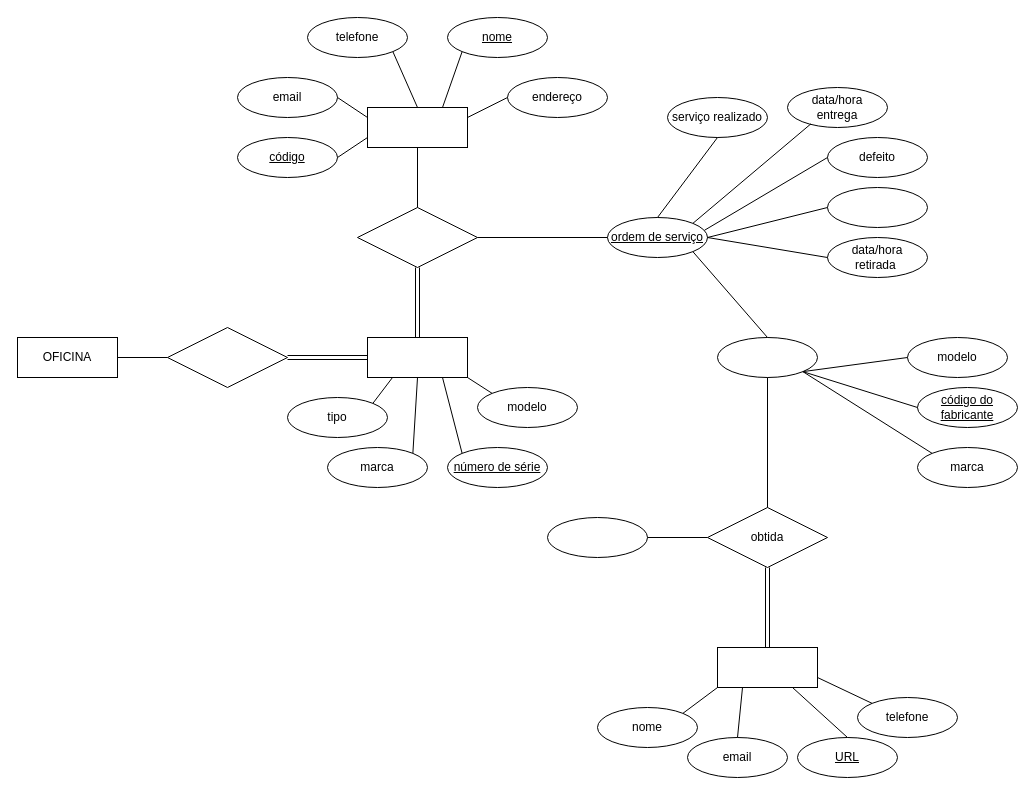
Image size: 1035x795. Some labels were removed from this diagram. The shapes that lost their labels are listed below. From the top down, each one's box as (x1, y1, x2, y2) in pixels, then its label:
(366, 106, 468, 148): CLIENTE
(826, 186, 928, 228): equipamento retornado
(356, 206, 478, 268): entrega
(166, 326, 288, 388): repara
(366, 336, 468, 378): EQUIPAMENTO
(716, 336, 818, 378): peça trocada
(546, 516, 648, 558): preço final peça
(716, 646, 818, 688): FORNECEDOR
